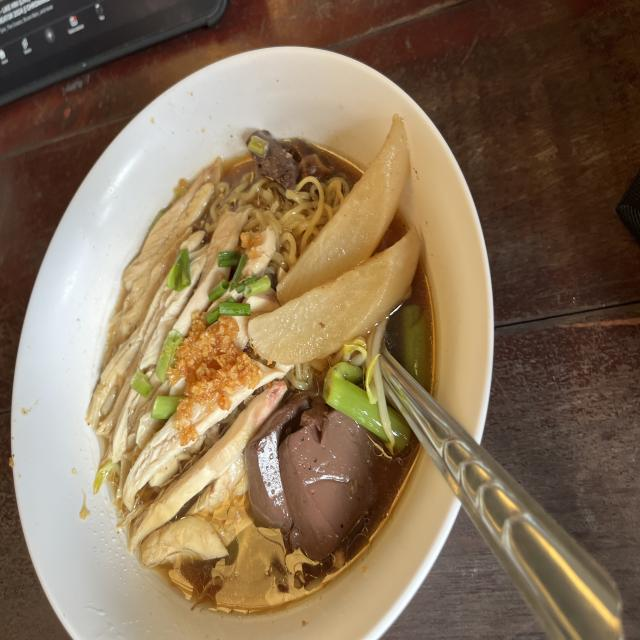noodle: (256, 397, 357, 533)
